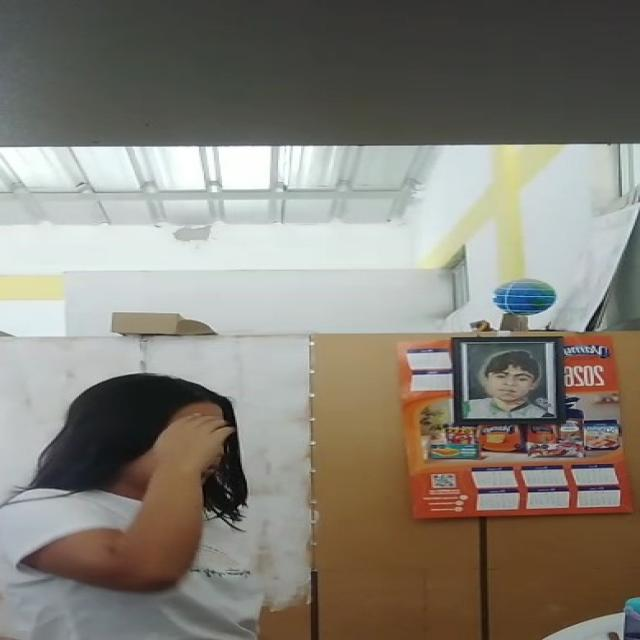7_mano_rostro: (150, 415, 233, 506)
